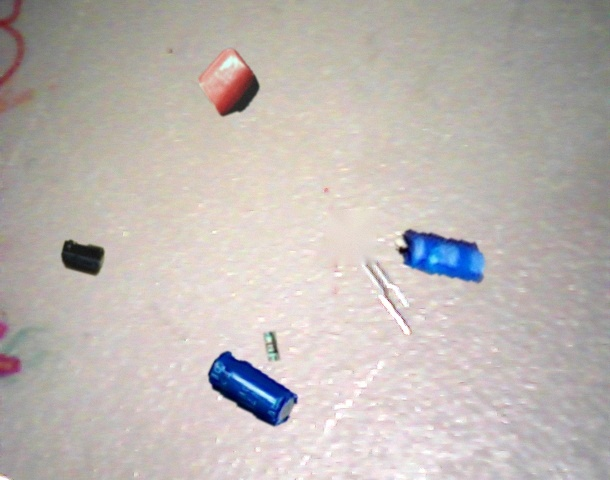capacitor: (208, 351, 298, 426), (394, 229, 486, 284), (198, 49, 260, 117), (61, 239, 106, 276)
resistor: (263, 331, 280, 362)
